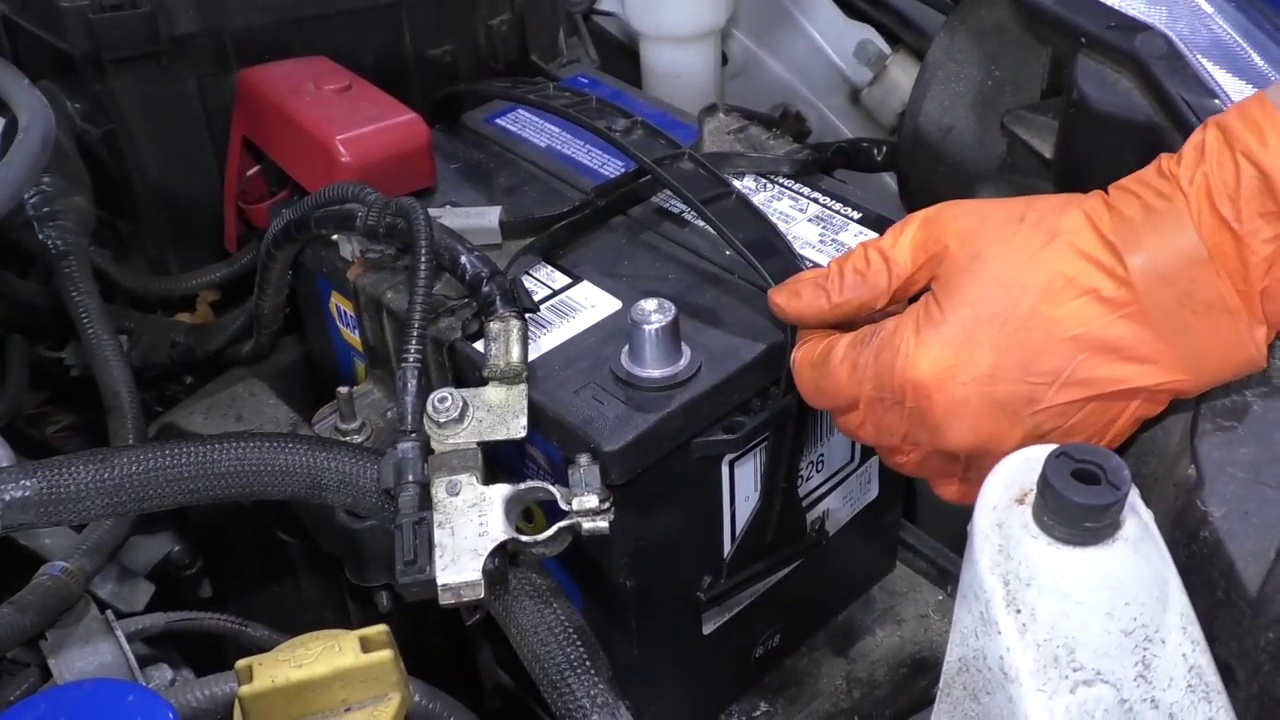battery: (269, 54, 913, 450)
neg_disconnected: (578, 273, 744, 403)
pos_connected: (202, 52, 450, 259)
